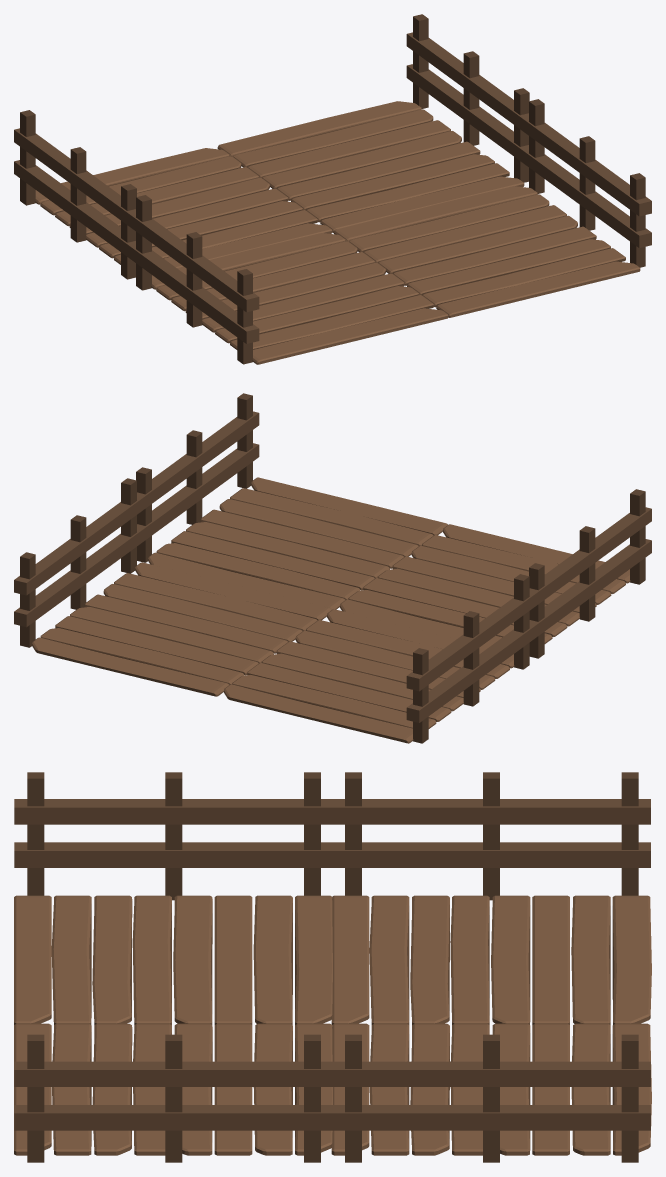
File: BridgeShort.fbx
3 renders of one model, top to bottom at view 1: azimuth 30°, elevation 25°; view 2: azimuth 150°, elevation 25°; view 3: azimuth 270°, elevation 25°, orthographic. The views are drawn at different scales.
Parts seen in each view (by area): view 1: bridge.002; view 2: bridge.002; view 3: bridge.002.
Part boxes in pixels (x1,y1,x2,y2): bridge.002: (14, 14, 651, 364); bridge.002: (14, 393, 651, 743); bridge.002: (14, 772, 651, 1162).
Bounding box in the file's own units: 3.99 × 0.8346 × 3.97.
